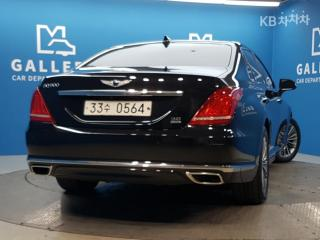0: (116, 102, 123, 114)
3: (89, 102, 97, 114), (97, 102, 104, 114)
4: (137, 103, 145, 115)
5: (123, 102, 130, 114)
6: (130, 103, 138, 114)
plate: (75, 97, 156, 120)
수: (104, 103, 111, 114)
